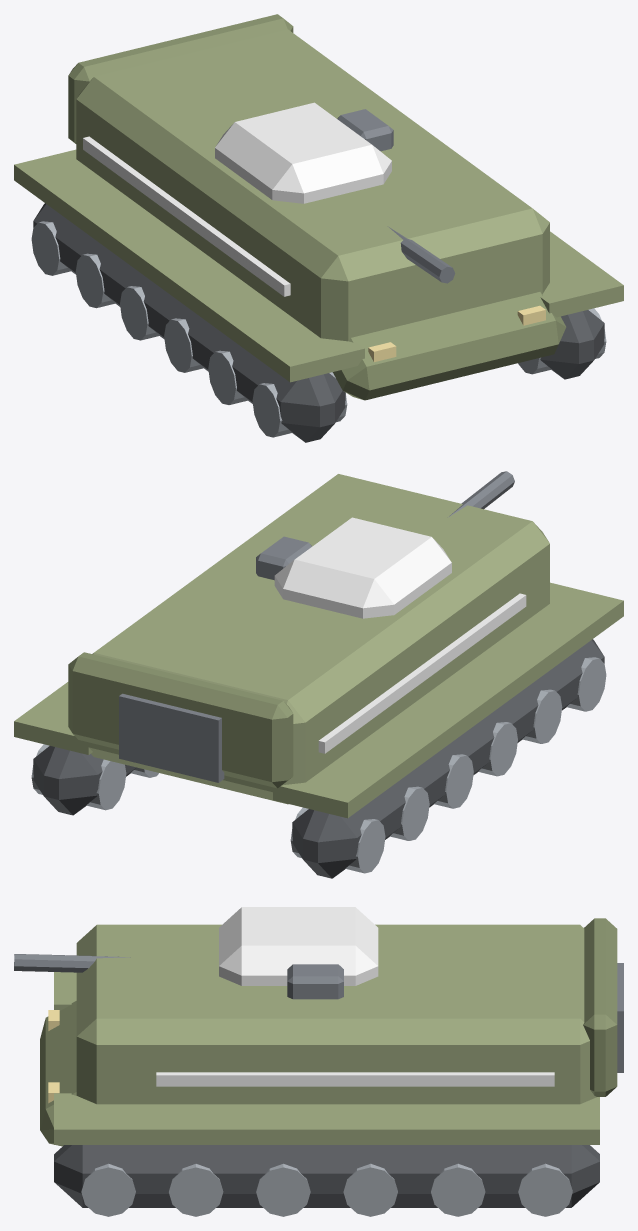
File: ifv.glb
3 views of the same model, one above another, from view 1: azimuth 30°, elevation 25°; view 2: azimuth 150°, elevation 25°; view 3: azimuth 270°, elevation 25° (orthographic).
Parts seen in each view (by area): view 1: main, turret; view 2: main, turret; view 3: main, turret.
Part boxes in pixels (x1=…): main: x1=14, y1=14, x2=623, y2=442; turret: x1=215, y1=102, x2=455, y2=283; main: x1=14, y1=474, x2=623, y2=878; turret: x1=256, y1=471, x2=514, y2=618; main: x1=40, y1=918, x2=623, y2=1216; turret: x1=14, y1=907, x2=378, y2=999.
Size of the model in its own units: 0.67 by 0.39 by 1.07.
